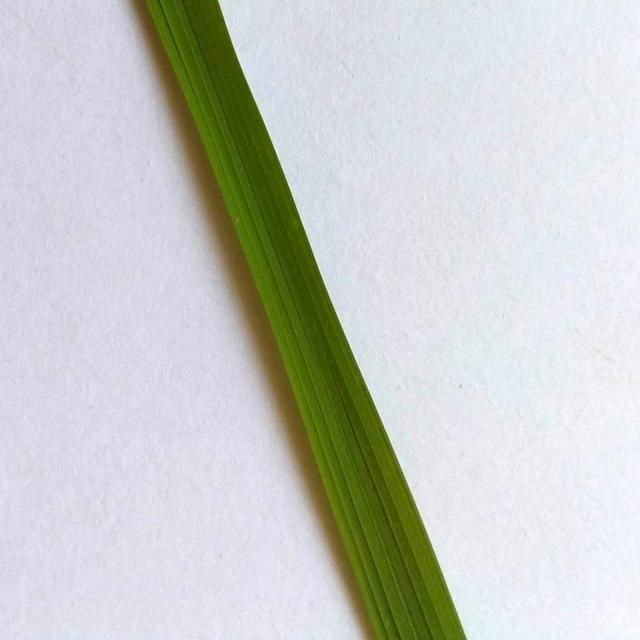healthy: (92, 7, 478, 640)
